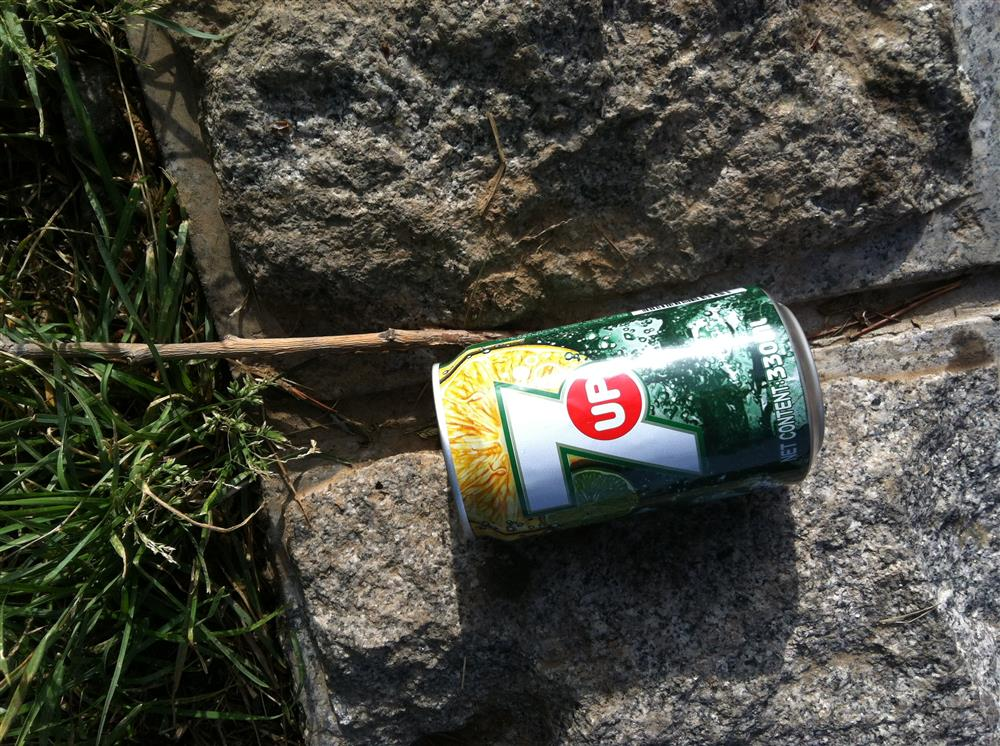SevenUp: (431, 283, 824, 549)
